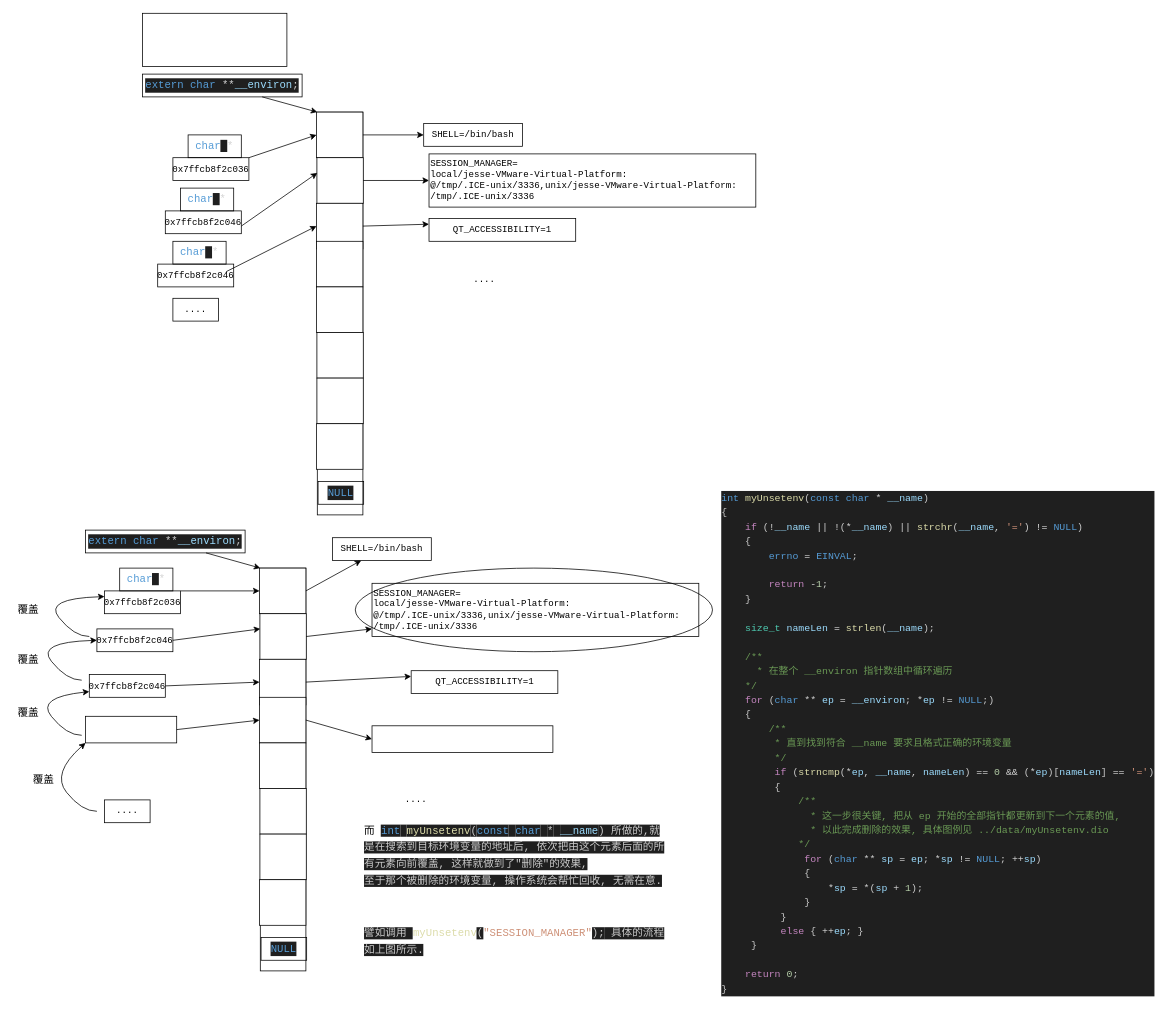
Some shapes in this 1173 by 1019 pixel diagram are drawn without their labels. The shapes that lost their labels are listed below. From the top down, each one's centre as x and y in pixels, then its label:
(214,39): __environ 本质上就是一个指针数组, 每一个元素都是一个指向了字符串的指针.
(131,729): 0x7ffcb8f2c0d9
(462,738): COLORTERM=truecolor
